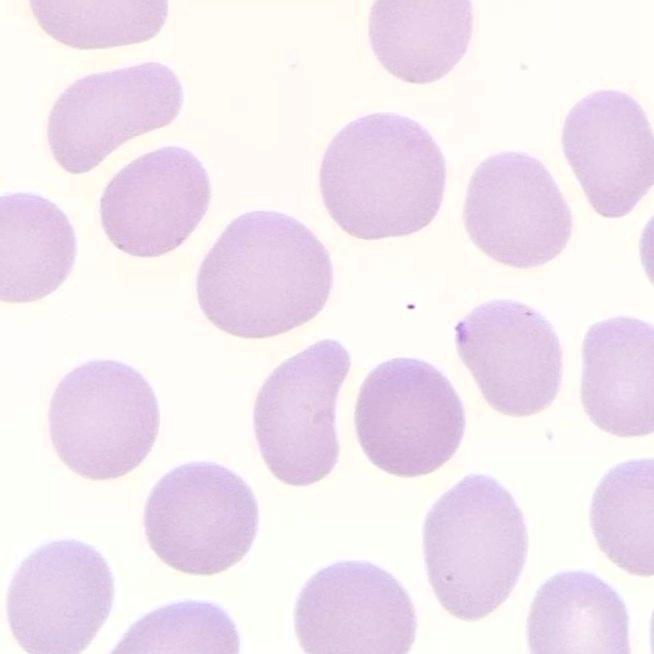Uninfected: (196, 209, 334, 336), (320, 112, 449, 240), (427, 472, 533, 625), (250, 336, 347, 490), (52, 62, 180, 176), (450, 299, 568, 421), (145, 456, 260, 575), (47, 359, 160, 476), (355, 356, 464, 475), (462, 151, 572, 268), (5, 539, 113, 654), (105, 144, 209, 262), (562, 91, 654, 222), (297, 562, 417, 654), (0, 186, 74, 308), (370, 0, 477, 83), (580, 316, 654, 433), (523, 572, 627, 654), (587, 456, 654, 573)
